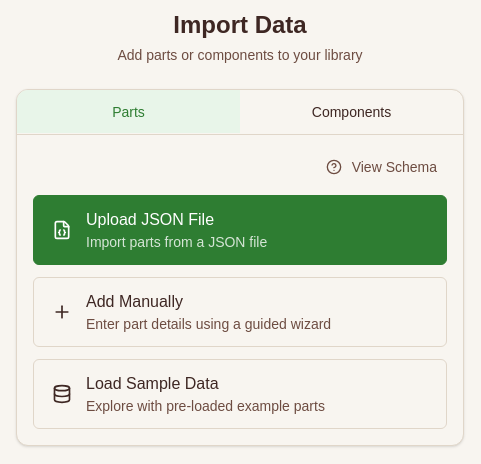
Test: Data Import Screen (Story 2.2) › AC-2.2.2: Parts and Components Tabs Are Functional › tab switching updates content area
Expected: the text "Import parts from a JSON file" is shown, [86, 234, 267, 250]
// Switch to Components tab
Click the tab "Components". click: x=352, y=112
box: [240, 90, 463, 133]
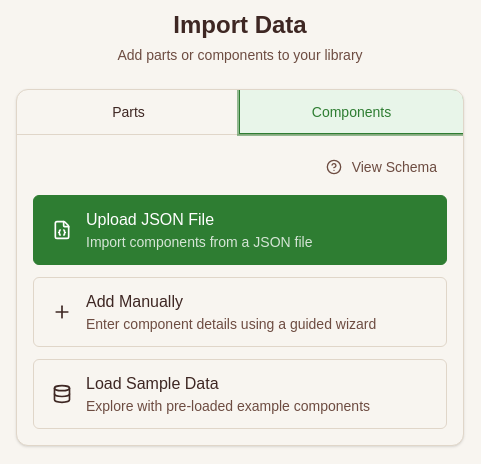
Expected: the text "Import components from a JSON file" is shown, [86, 234, 312, 250]
